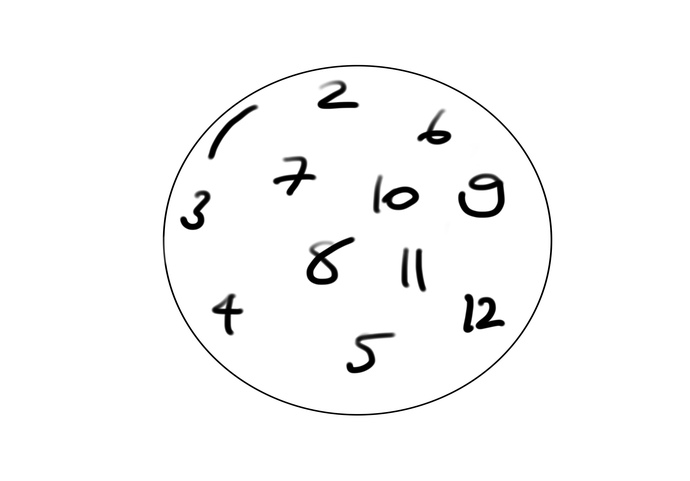eight: (305, 227, 358, 289)
eleven: (206, 101, 259, 158), (394, 244, 430, 296)
five: (345, 326, 396, 375)
four: (210, 287, 242, 337)
nine: (454, 165, 508, 218)
seven: (273, 151, 317, 198)
six: (417, 101, 453, 148)
ten: (371, 168, 417, 213)
three: (179, 185, 212, 233)
twelve: (463, 287, 507, 334)
two: (315, 76, 364, 111)
